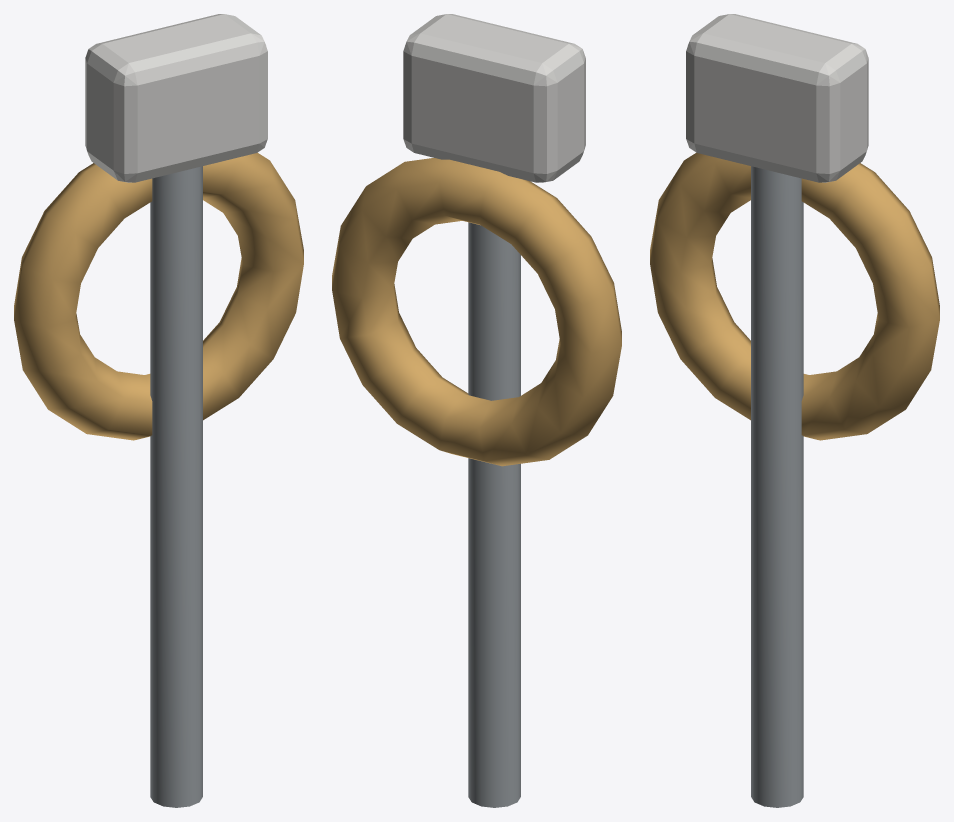
File: lifebuoy.glb
The picture shows the model from 3 angles, left to right: view 1: azimuth 30°, elevation 25°; view 2: azimuth 150°, elevation 25°; view 3: azimuth 330°, elevation 25°; orthographic projection.
Visible parts, largest first — view 1: lifebuoy_Palette; view 2: lifebuoy_Palette; view 3: lifebuoy_Palette.
Boxes of the visible parts, left/top/right/bottom form: lifebuoy_Palette: left=14, top=14, right=303, bottom=807; lifebuoy_Palette: left=332, top=14, right=621, bottom=807; lifebuoy_Palette: left=650, top=14, right=939, bottom=807.
Bounding box in the file's own units: 0.76 × 1.9 × 0.2493.
